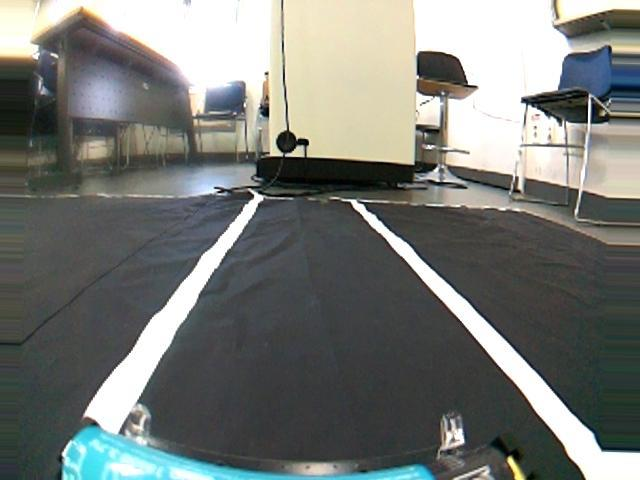straight: (1, 197, 640, 480)
